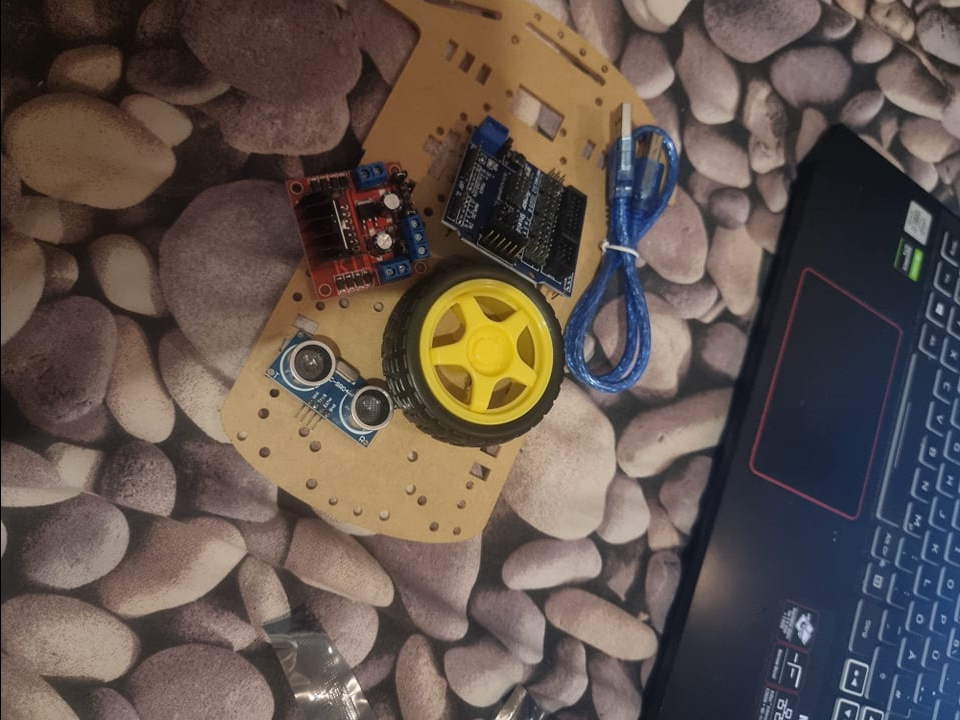5V EXPANSION: (437, 116, 585, 298)
MOTOR: (287, 157, 421, 298)
SENSOR: (262, 334, 396, 443)
